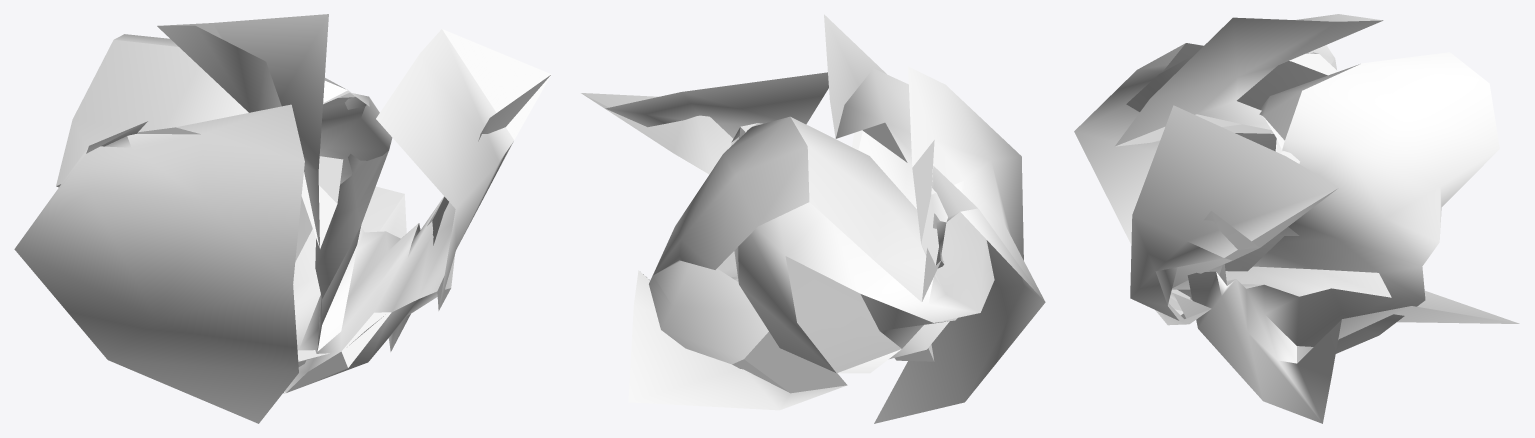
File: Trash.fbx
3 views of the same model, side by side, from view 1: azimuth 30°, elevation 25°; view 2: azimuth 150°, elevation 25°; view 3: azimuth 270°, elevation 25° (orthographic). The views are drawn at different scales.
Visible parts, largest first — view 1: Trash; view 2: Trash; view 3: Trash.
Boxes of the visible parts, left/top/right/bottom form: Trash: left=14, top=14, right=551, bottom=423; Trash: left=581, top=14, right=1045, bottom=423; Trash: left=1074, top=14, right=1519, bottom=423.
Size of the model in its own units: 56.2 by 42.41 by 45.36.
